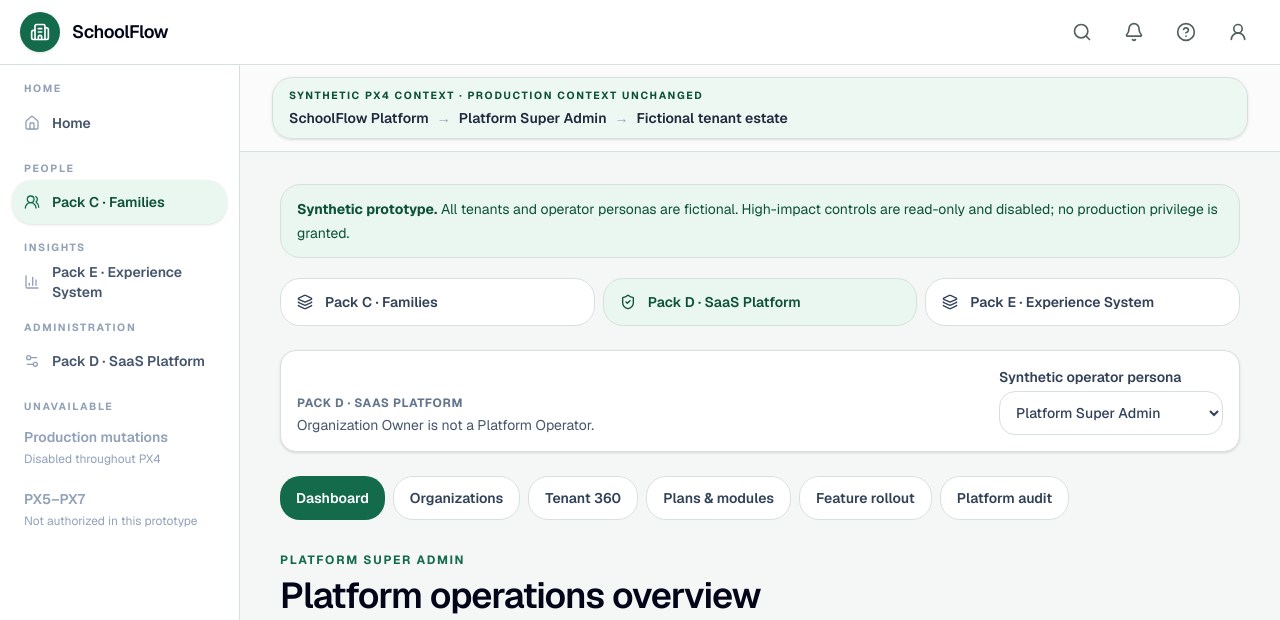
Test: PX4 Prototype Packs C–E › materially differentiates all three platform personas
Select "Platform Support Viewer" in the dropdown named "Platform operator persona" at (1111, 413), box x1=999 y1=391 x2=1223 y2=435
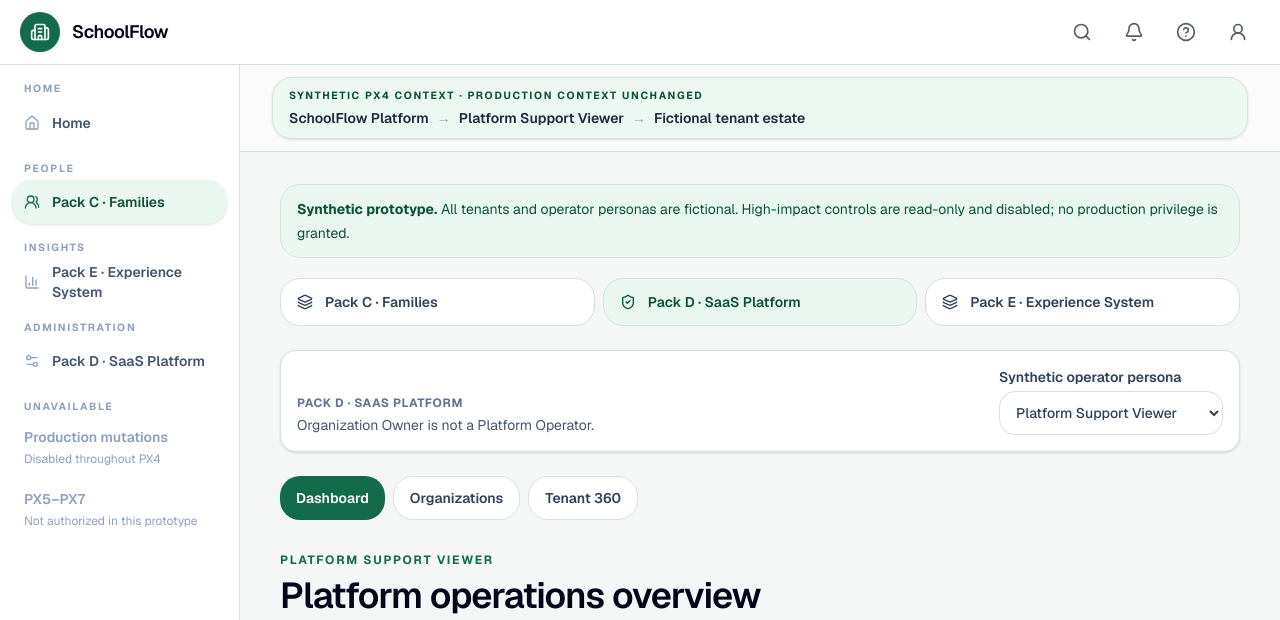
Expected: the button "Feature rollout" is gone
Click the button "Tenant 360" at (583, 498), box x1=528 y1=476 x2=638 y2=520
(page scrolled)
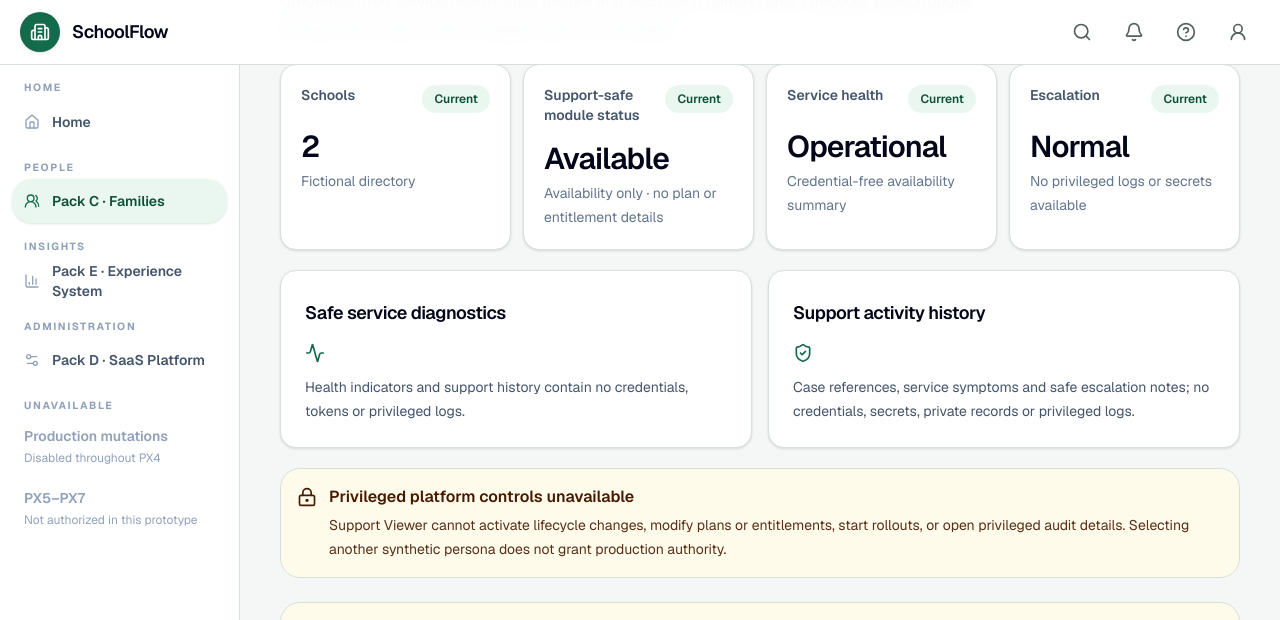
Expected: the text "Support-safe module status" is shown, x1=544 y1=85 x2=654 y2=125
Expected: the heading "Safe service diagnostics" is shown, x1=305 y1=301 x2=506 y2=324
Expected: the heading "Support activity history" is shown, x1=793 y1=301 x2=985 y2=324
